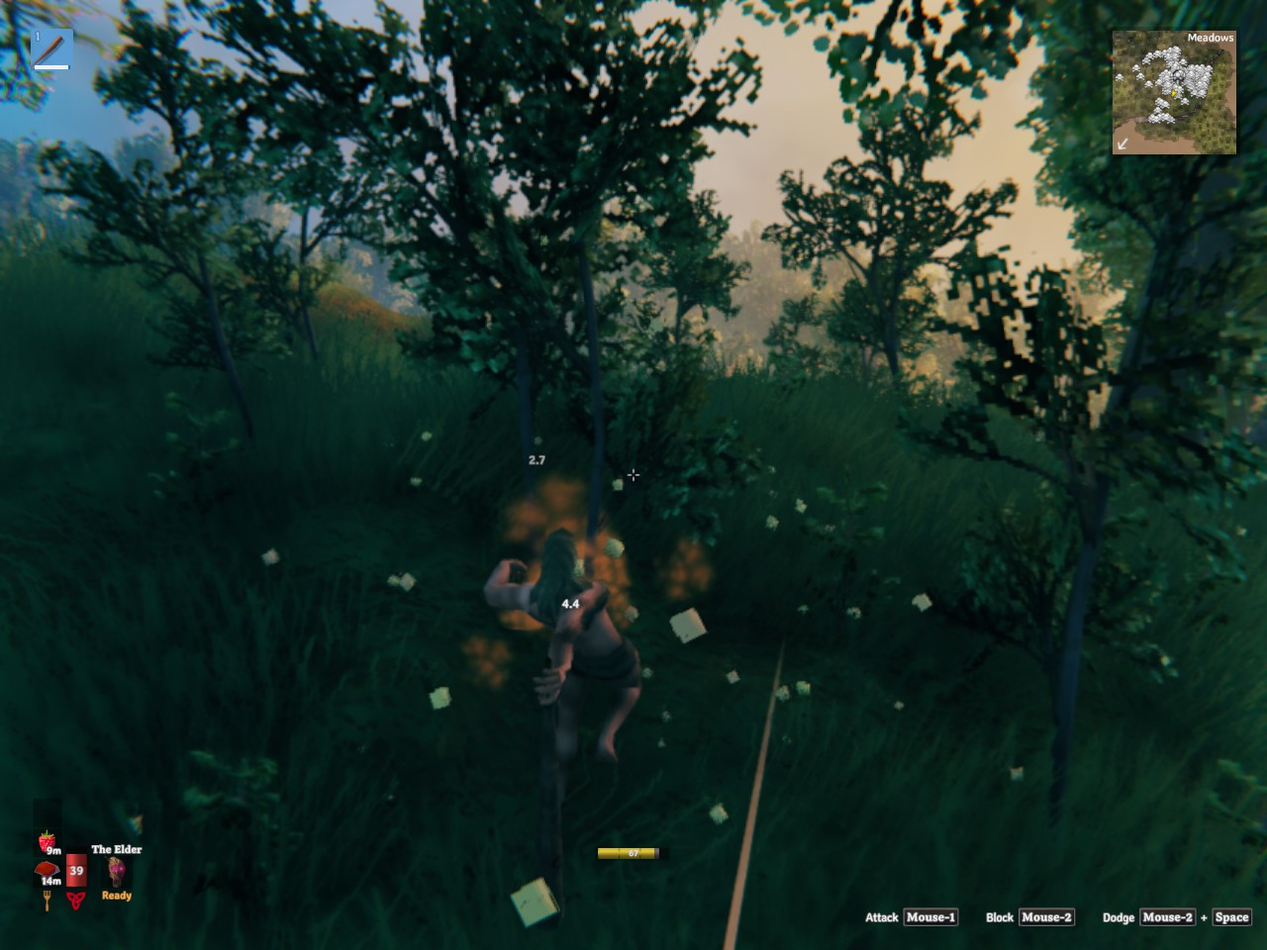Food Indicator: (35, 861, 60, 884), (38, 831, 60, 853)
Health Bar: (66, 853, 86, 888)
Hotbar: (28, 25, 72, 69)
Stamina Bar: (597, 847, 666, 860)
